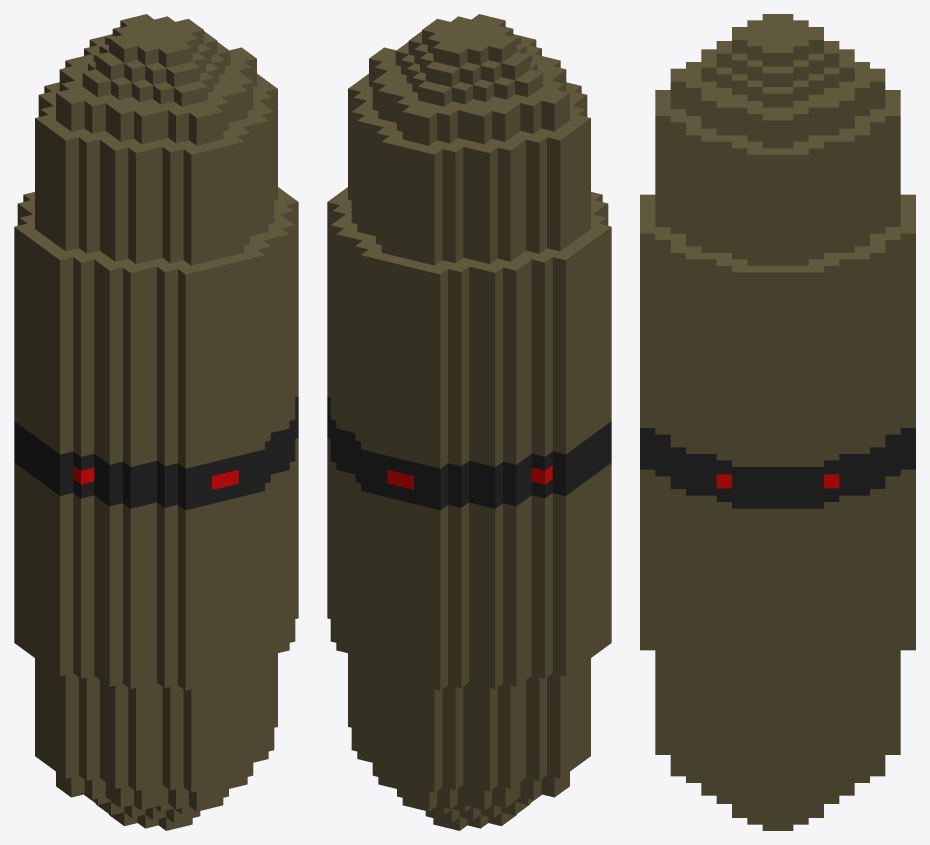
Rendered from Vase.obj.
The picture shows the model from 3 angles, left to right: view 1: azimuth 30°, elevation 25°; view 2: azimuth 150°, elevation 25°; view 3: azimuth 270°, elevation 25°; orthographic projection.
Size of the model in its own units: 1.8 by 5.6 by 1.8.
1 material, 1 textured.
